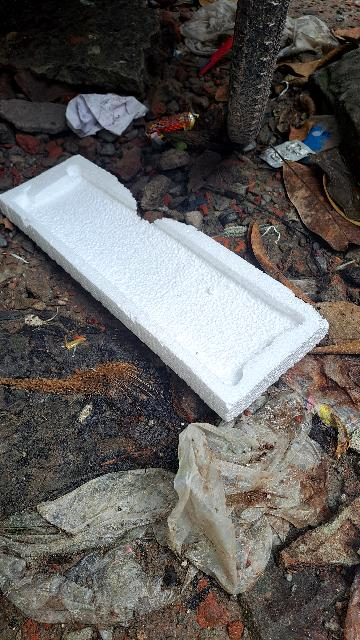cocksheet: (1, 121, 342, 439)
